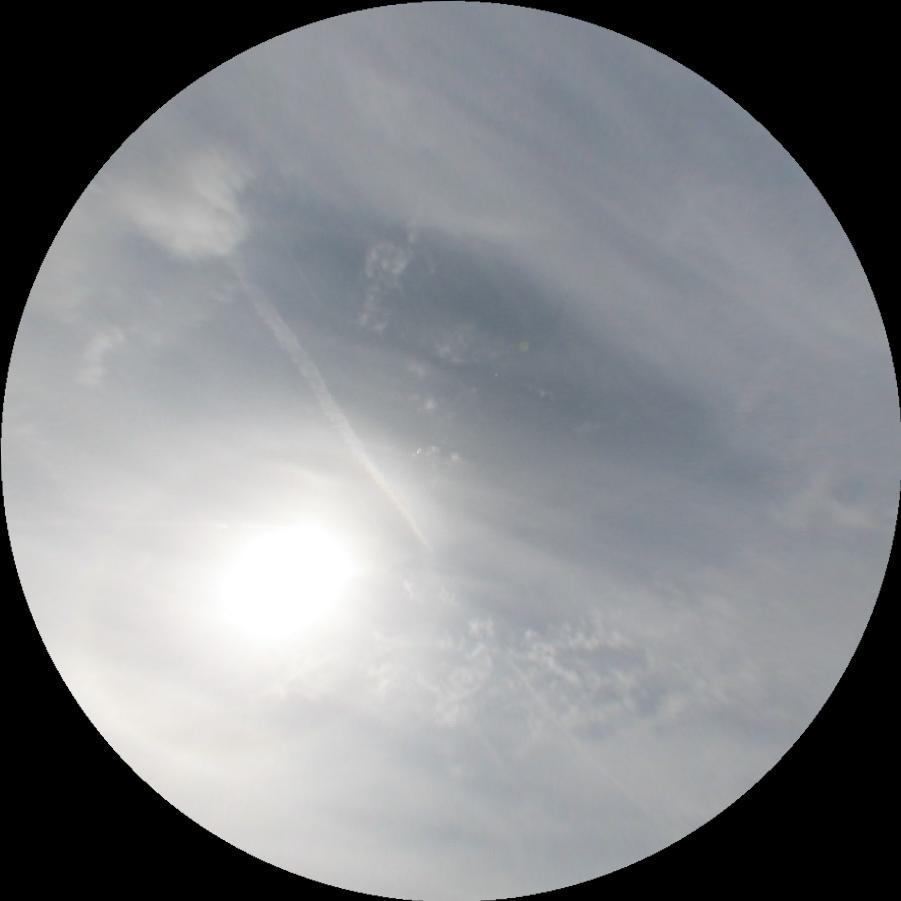contrail veryold: (216, 246, 633, 815)
contrail young: (274, 233, 323, 308)
parasite: (6, 518, 285, 527)
sun: (205, 499, 359, 659)
